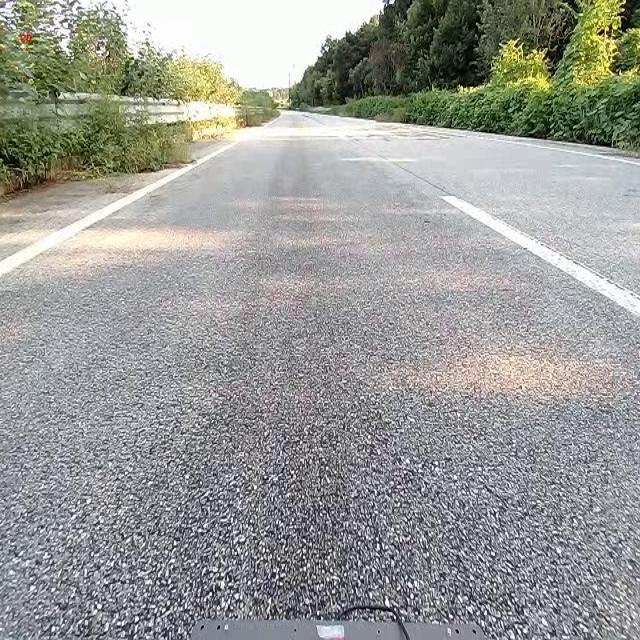Lane: (0, 132, 243, 282), (0, 143, 238, 279), (440, 191, 640, 318), (440, 195, 639, 317)
